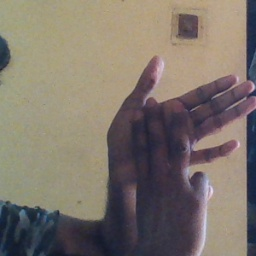M: (106, 53, 256, 224)
